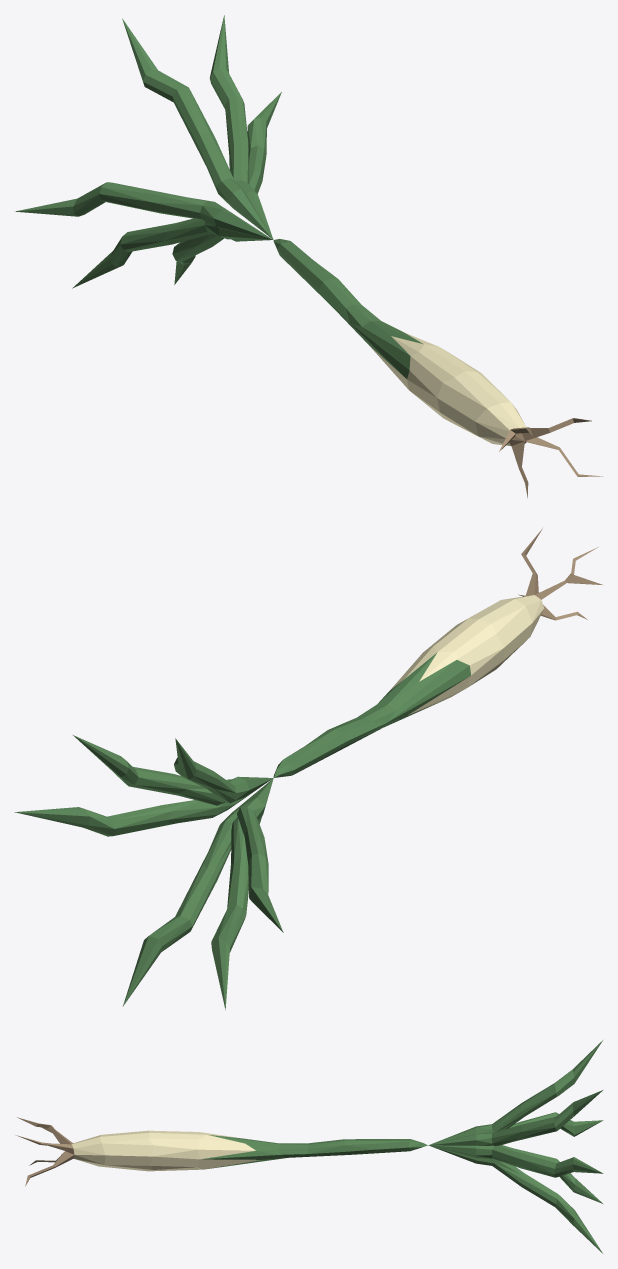
Rendered from Green Onion.fbx.
3 renders of one model, top to bottom at view 1: azimuth 30°, elevation 25°; view 2: azimuth 150°, elevation 25°; view 3: azimuth 270°, elevation 25°, orthographic. The views are drawn at different scales.
Parts seen in each view (by area): view 1: Green Onion; view 2: Green Onion; view 3: Green Onion.
Boxes of the visible parts, box(x1,y1,x2,y2) form: Green Onion: box(15, 15, 602, 498); Green Onion: box(14, 528, 603, 1009); Green Onion: box(15, 1040, 603, 1253).
Bounding box in the file's own units: 10.69 × 10.69 × 28.92.
